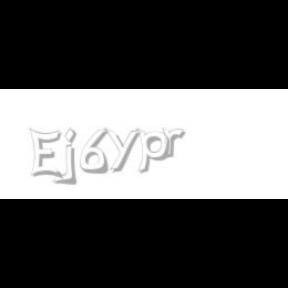6: (80, 128, 108, 176)
E: (29, 128, 62, 180)
j: (62, 128, 90, 186)
p: (136, 128, 174, 174)
r: (162, 128, 188, 158)
y: (104, 128, 144, 172)
